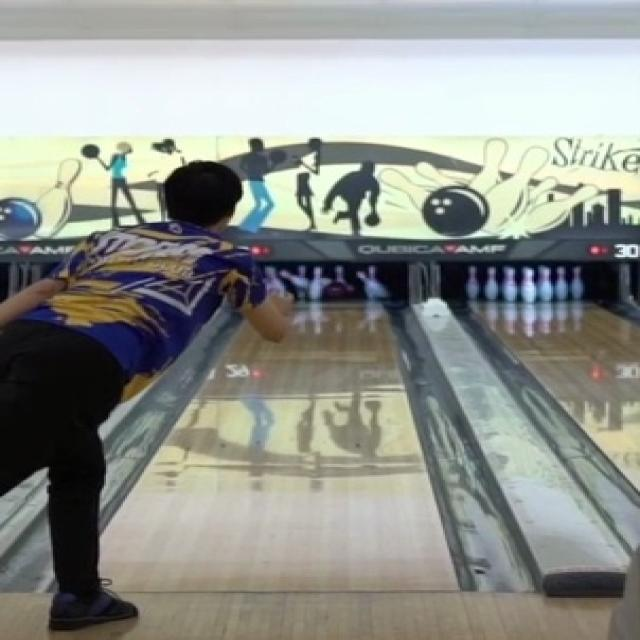alley: (104, 305, 454, 588)
balls: (327, 277, 361, 304)
bottle: (265, 265, 386, 299)
